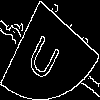U: (25, 25, 66, 85)
